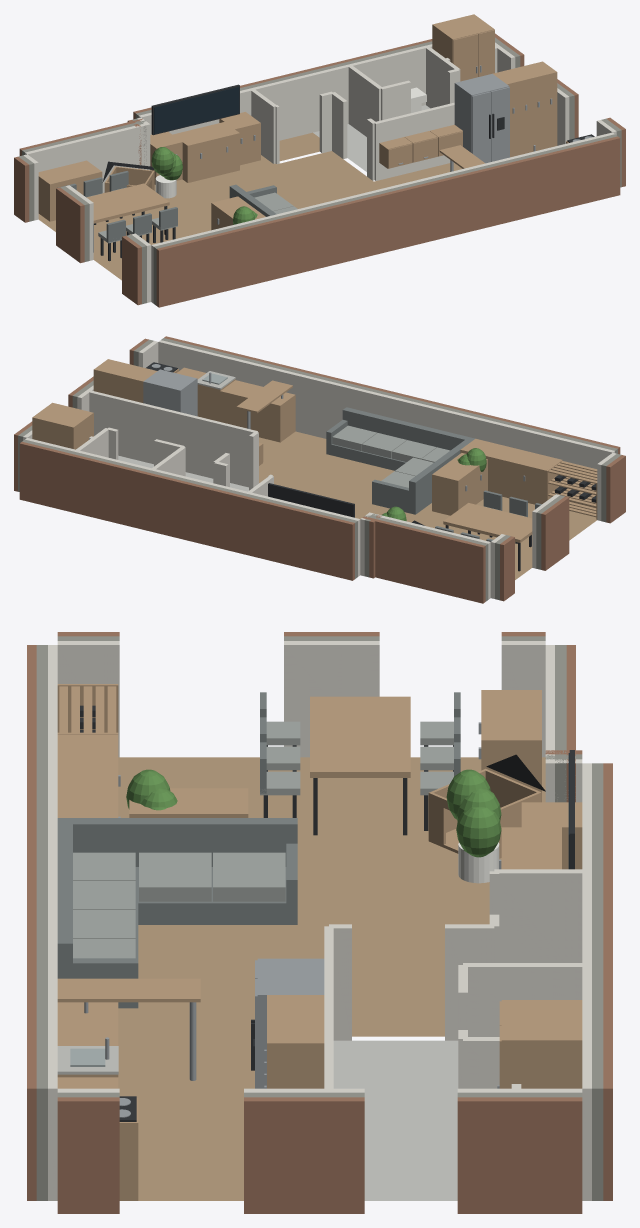
The model's file is ground.glb.
3 renders of one model, top to bottom at view 1: azimuth 30°, elevation 25°; view 2: azimuth 150°, elevation 25°; view 3: azimuth 270°, elevation 25°, orthographic. The views are drawn at different scales.
Visible parts, largest first — view 1: wall__ground__0__2, room__living, wall__ground__6__0, wall__ground__4__0, furniture__ground__102__body, wall__ground__10__0, furniture__ground__103__screen, furniture__ground__55__body, room__dining, furniture__ground__104, furniture__ground__56__body, furniture__ground__94__top (+37 smaller); view 2: wall__ground__6__2, wall__ground__0__0, wall__ground__10__0, wall__ground__4__2, room__living, furniture__ground__86__body, furniture__ground__83__body, furniture__ground__54__body, furniture__ground__73__long_back, furniture__ground__94__top, furniture__ground__902__body, wall__ground__2__2 (+36 smaller); view 3: room__living, room__kitchen, room__hall, room__dining, wall__ground__9__2, wall__ground__8__2, furniture__ground__94__top, wall__ground__15__0, furniture__ground__73__return_back, wall__ground__7__2, furniture__ground__54__body, wall__ground__0__1 (+52 smaller).
Boxes of the visible parts, left/top/right/bottom form: wall__ground__0__2: left=156, top=136, right=620, bottom=307; room__living: left=173, top=151, right=382, bottom=225; wall__ground__6__0: left=138, top=44, right=432, bottom=140; wall__ground__4__0: left=25, top=123, right=150, bottom=192; furniture__ground__102__body: left=173, top=122, right=239, bottom=182; wall__ground__10__0: left=374, top=102, right=454, bottom=180; furniture__ground__103__screen: left=154, top=87, right=239, bottom=134; furniture__ground__55__body: left=518, top=61, right=557, bottom=151; room__dining: left=38, top=185, right=211, bottom=264; furniture__ground__104: left=379, top=124, right=462, bottom=168; furniture__ground__56__body: left=493, top=67, right=532, bottom=157; furniture__ground__94__top: left=86, top=183, right=169, bottom=223; wall__ground__6__2: left=19, top=441, right=354, bottom=580; wall__ground__0__0: left=158, top=340, right=614, bottom=468; wall__ground__10__0: left=89, top=390, right=257, bottom=487; wall__ground__4__2: left=362, top=516, right=485, bottom=603; room__living: left=274, top=440, right=443, bottom=526; furniture__ground__86__body: left=460, top=438, right=560, bottom=504; furniture__ground__83__body: left=432, top=453, right=487, bottom=515; furniture__ground__54__body: left=32, top=402, right=93, bottom=449; furniture__ground__73__long_back: left=342, top=407, right=474, bottom=450; furniture__ground__94__top: left=443, top=503, right=532, bottom=542; furniture__ground__902__body: left=143, top=369, right=197, bottom=416; wall__ground__2__2: left=541, top=496, right=569, bottom=570; room__living: left=118, top=875, right=489, bottom=1036; room__kitchen: left=118, top=1036, right=254, bottom=1200; room__hall: left=333, top=1040, right=458, bottom=1200; room__dining: left=258, top=757, right=545, bottom=875; wall__ground__9__2: left=457, top=1097, right=582, bottom=1213; wall__ground__8__2: left=244, top=1097, right=364, bottom=1213; furniture__ground__94__top: left=310, top=696, right=410, bottom=777; wall__ground__15__0: left=494, top=869, right=582, bottom=962; furniture__ground__73__return_back: left=60, top=818, right=297, bottom=866; wall__ground__7__2: left=57, top=1097, right=119, bottom=1213; furniture__ground__54__body: left=501, top=1000, right=582, bottom=1088; wall__ground__0__1: left=36, top=645, right=47, bottom=1200.
Size of the model in its own units: 11.64 by 1.8 by 6.14.
